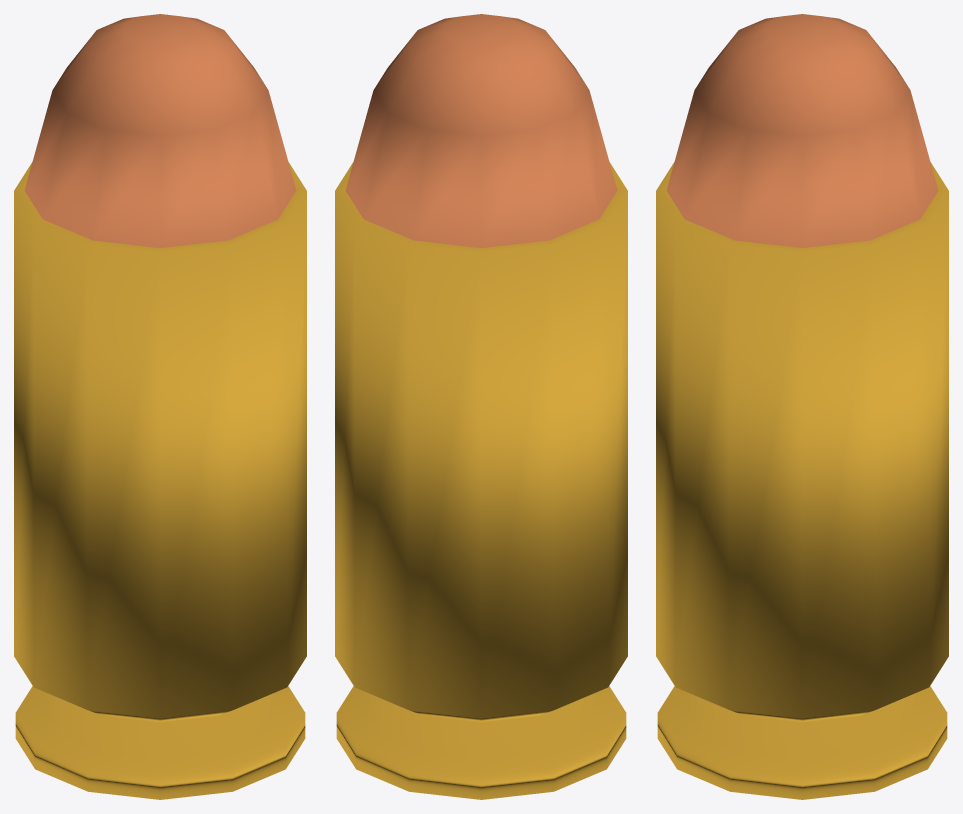
File: projectile_bullet.fbx
3 views of the same model, side by side, from view 1: azimuth 30°, elevation 25°; view 2: azimuth 150°, elevation 25°; view 3: azimuth 270°, elevation 25° (orthographic).
Visible parts, largest first — view 1: Cylinder; view 2: Cylinder; view 3: Cylinder.
Part boxes in pixels (x1=…): Cylinder: x1=14, y1=14, x2=306, y2=799; Cylinder: x1=335, y1=14, x2=627, y2=799; Cylinder: x1=656, y1=14, x2=948, y2=799.
Size of the model in its own units: 202 by 543 by 202.
